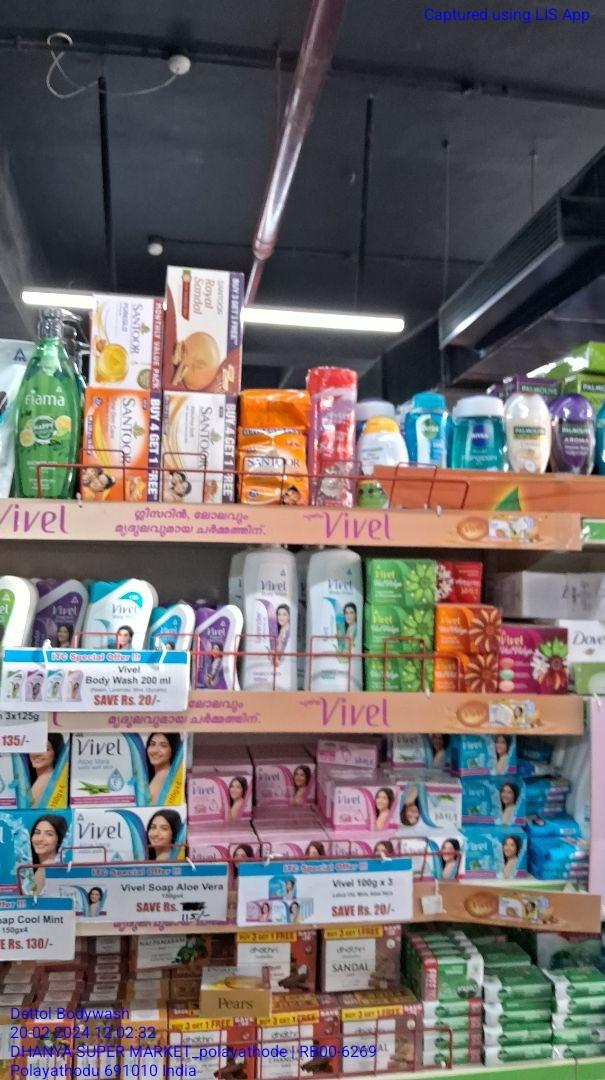Dettol_Bodywash_Cool: (407, 390, 451, 468)
Nivea_Shower_Gel_Frangipani_and_Oil_250ML: (455, 398, 505, 475)
Palmolive_Aroma_Relax_250ML: (554, 393, 596, 476)
Palmolive_Coconut_Joy_Exfoliating_Body_Wash_250ML: (508, 390, 551, 471)
